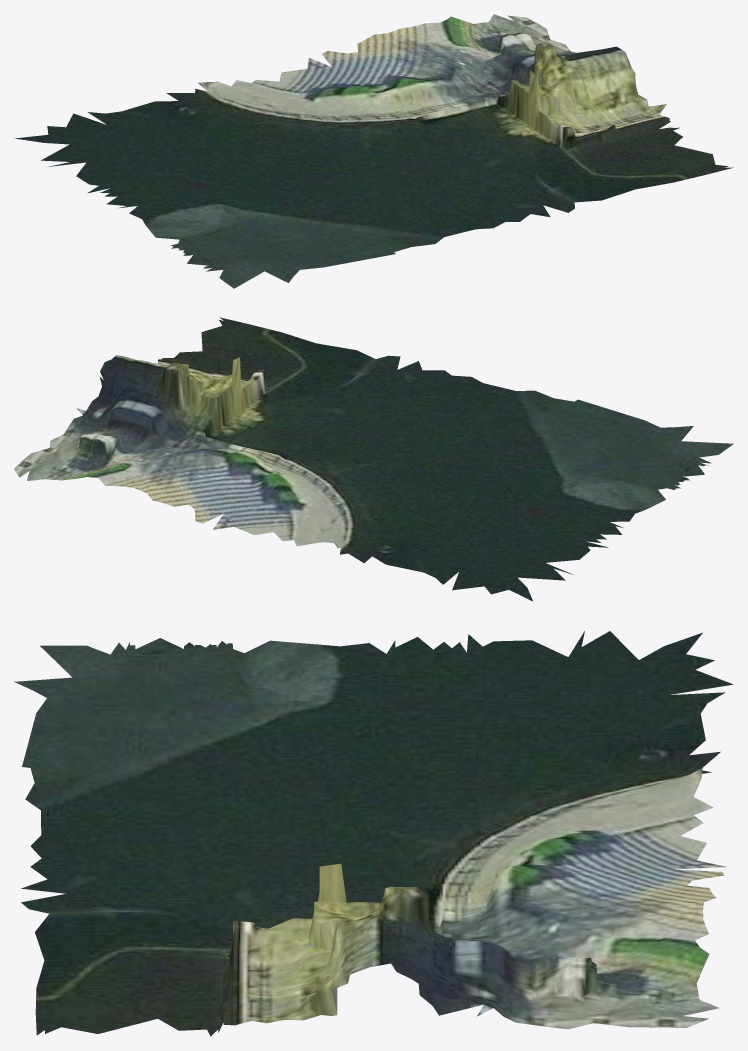
Rendered from Tile_003_001_L14_32241.glb.
3 views of the same model, one above another, from view 1: azimuth 30°, elevation 25°; view 2: azimuth 150°, elevation 25°; view 3: azimuth 270°, elevation 25° (orthographic). The views are drawn at different scales.
Parts seen in each view (by area): view 1: rtc; view 2: rtc; view 3: rtc.
Boxes of the visible parts, x1,y1,x2,y2 form: rtc: [14, 14, 733, 288]; rtc: [14, 317, 733, 601]; rtc: [14, 631, 733, 1036].
Bounding box in the file's own units: 88.93 × 9.37 × 66.46.
Materials: 1 (1 with a texture image).
